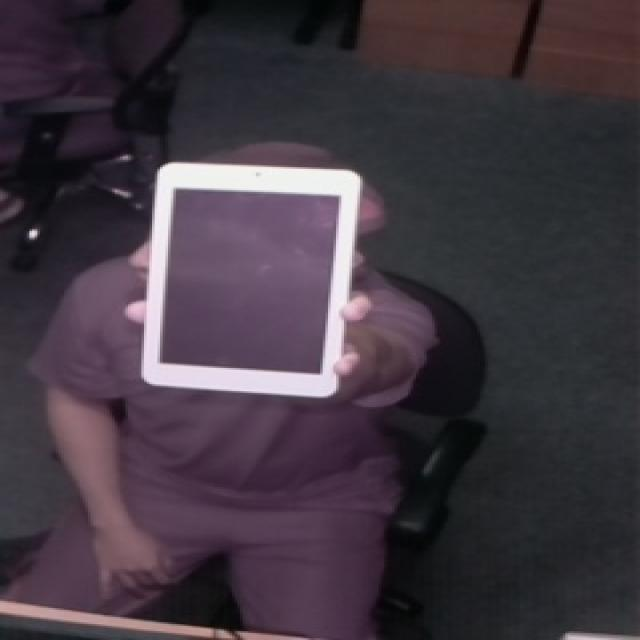phone: (129, 153, 382, 409)
